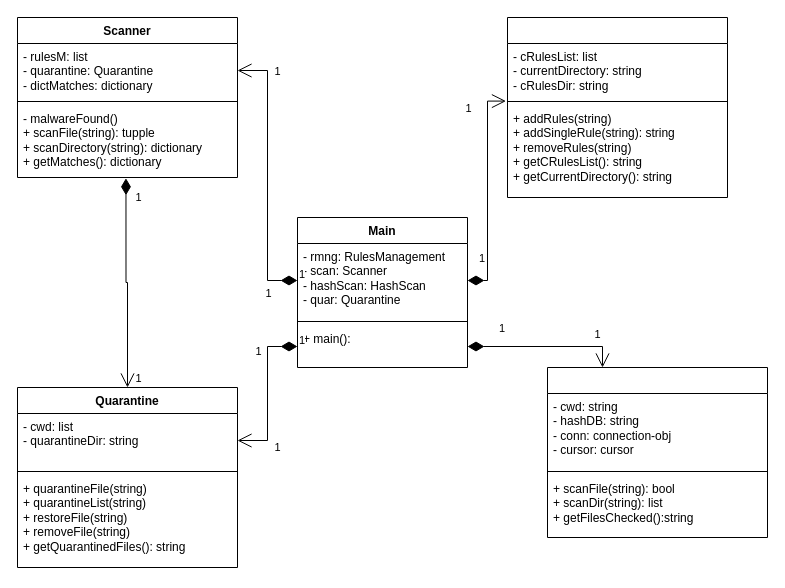
This 785x588 diagram has some shape labels left out. The box of each missing label's shape, as (x1, y1, x2, y2) in pixels:
HashScan: (546, 366, 768, 538)
RulesManagement: (506, 16, 728, 198)
